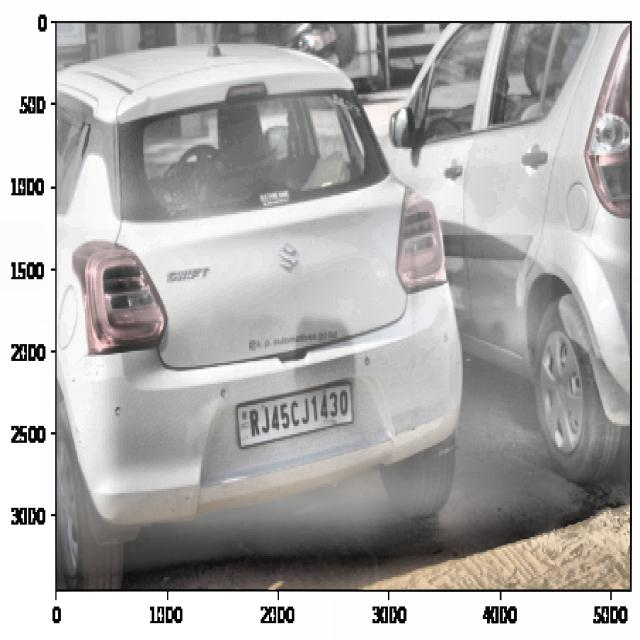license_plate: (246, 388, 352, 435)
